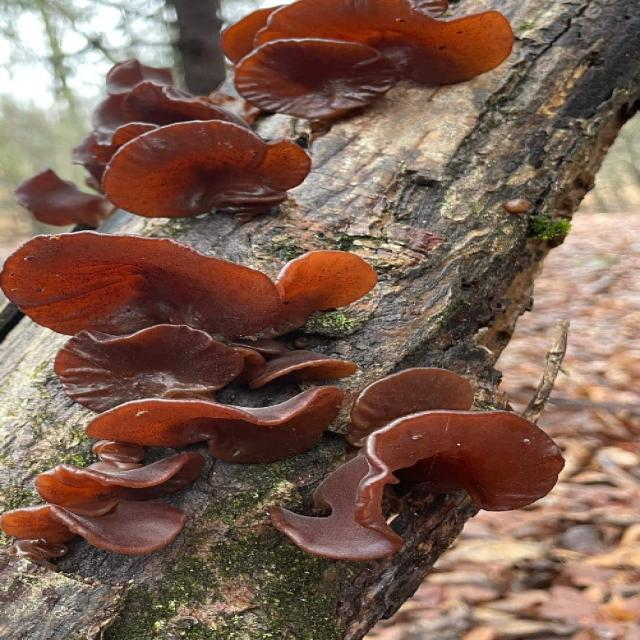Fase Muda: (265, 408, 572, 569), (0, 229, 382, 339), (208, 3, 550, 122), (91, 110, 318, 224), (0, 456, 227, 562), (85, 382, 348, 466), (0, 328, 244, 406), (350, 364, 472, 451), (249, 340, 358, 395)
